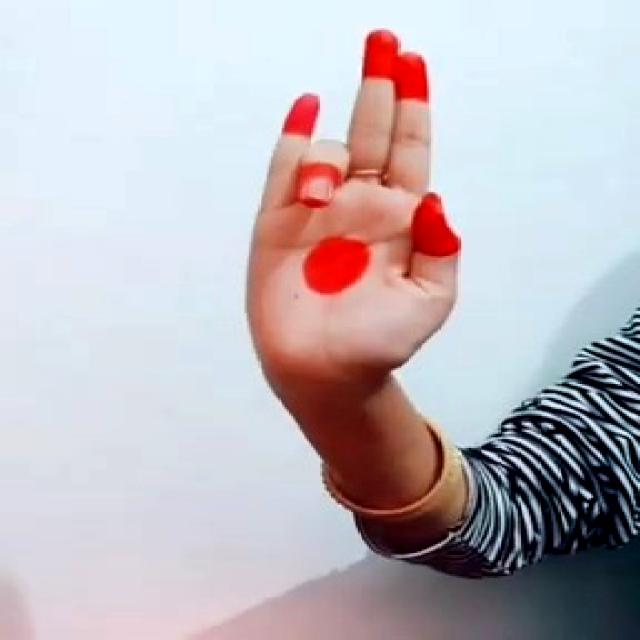Tripataka: (218, 21, 495, 382)
bangle: (286, 408, 481, 536)
